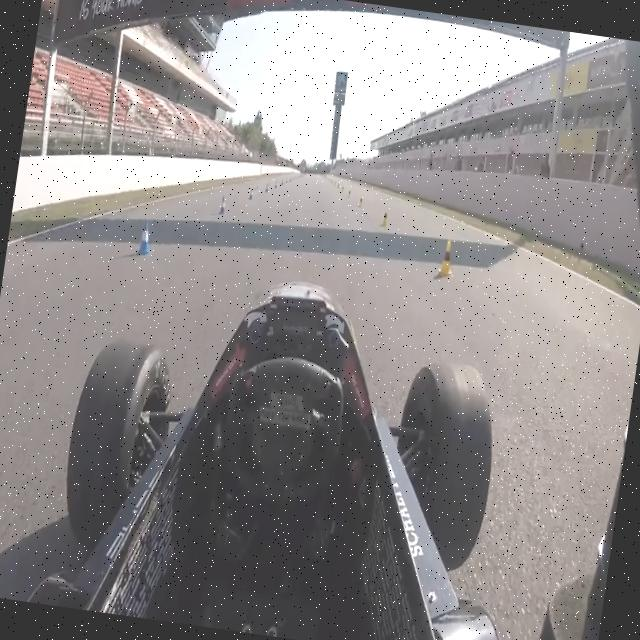blue_cone: (136, 218, 156, 258)
yellow_cone: (438, 240, 458, 278)
